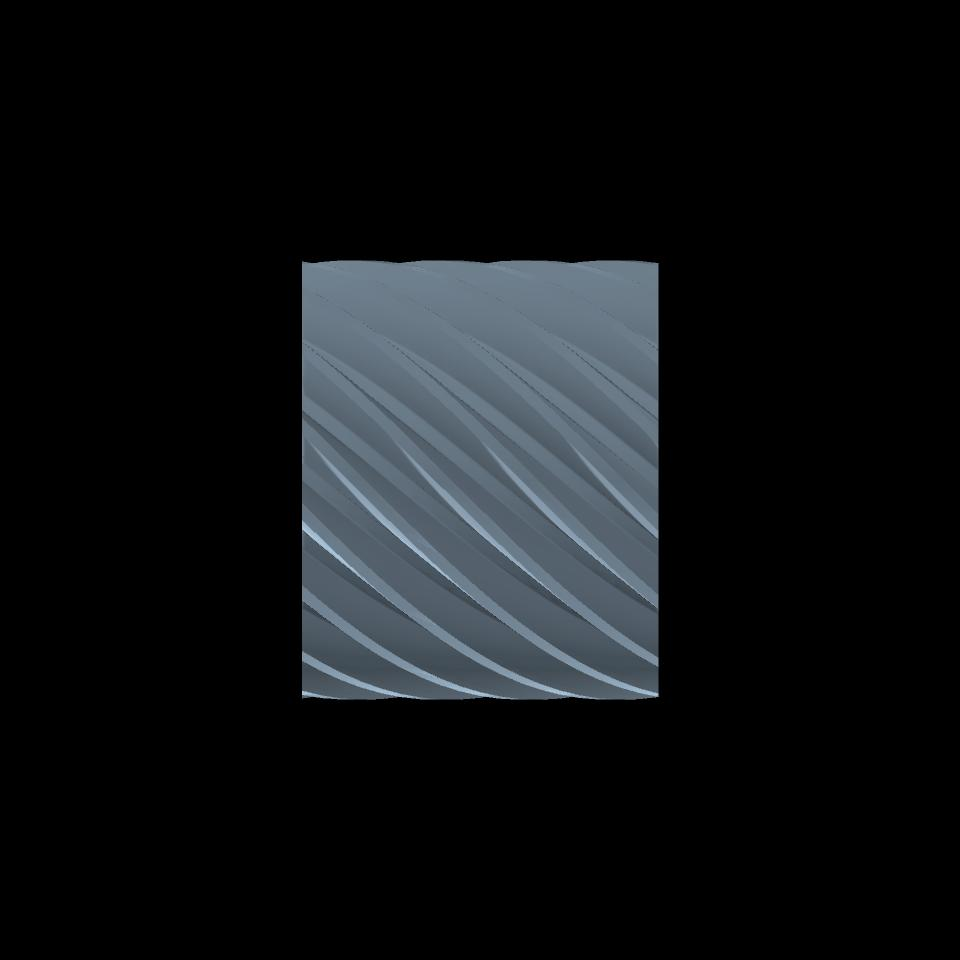Helical: (301, 262, 658, 698)
